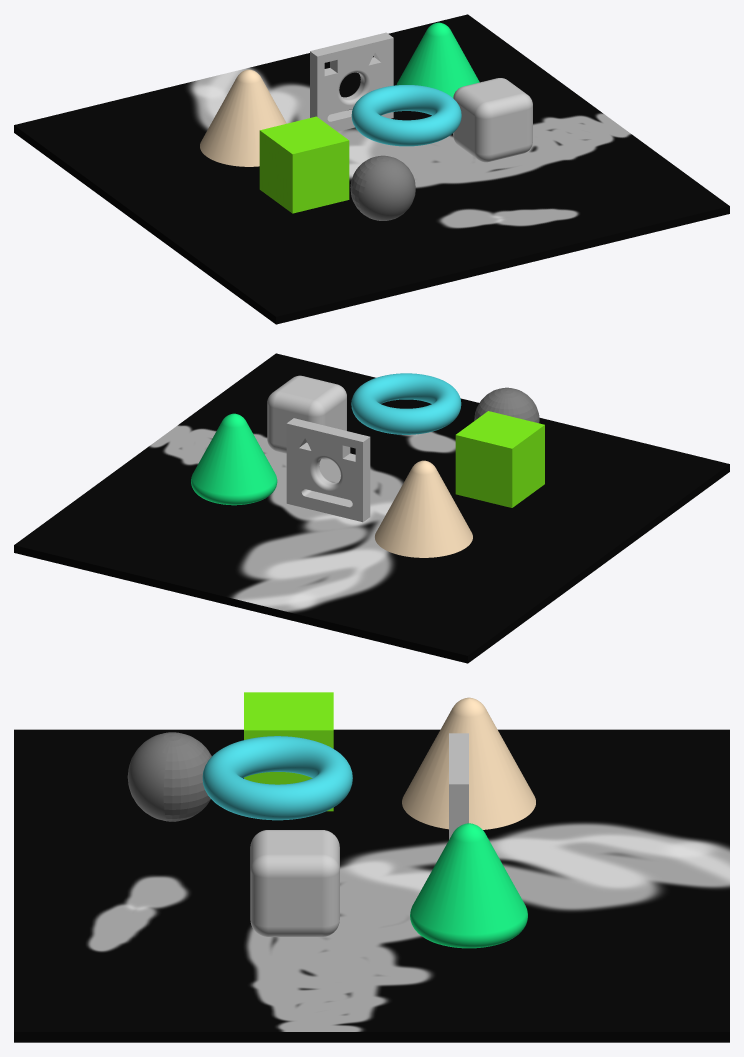
Rendered from testparts_mc.gltf.
The picture shows the model from 3 angles, top to bottom: view 1: azimuth 30°, elevation 25°; view 2: azimuth 150°, elevation 25°; view 3: azimuth 270°, elevation 25°; orthographic projection. The views are drawn at different scales.
Visible parts, largest first — view 1: Ground, Solid1.003, Solid1.004, Solid1, Solid1.005, Solid1.001, Plane, Solid1.002; view 2: Ground, Solid1.003, Solid1, Solid1.001, Solid1.002, Solid1.005, Solid1.004, Plane; view 3: Ground, Solid1.002, Solid1.005, Solid1.001, Solid1.004, Plane, Solid1.003, Solid1.
Boxes of the visible parts, left/top/right/bottom form: Ground: left=14, top=14, right=729, bottom=324; Solid1.003: left=259, top=116, right=349, bottom=213; Solid1.004: left=453, top=78, right=532, bottom=162; Solid1: left=310, top=32, right=393, bottom=131; Solid1.005: left=351, top=85, right=461, bottom=146; Solid1.001: left=200, top=69, right=286, bottom=166; Plane: left=350, top=155, right=415, bottom=220; Solid1.002: left=396, top=22, right=479, bottom=97; Ground: left=14, top=353, right=729, bottom=663; Solid1.003: left=455, top=411, right=544, bottom=507; Solid1: left=286, top=418, right=370, bottom=522; Solid1.001: left=375, top=460, right=472, bottom=557; Solid1.002: left=191, top=413, right=277, bottom=505; Solid1.005: left=351, top=373, right=461, bottom=434; Solid1.004: left=267, top=375, right=346, bottom=453; Plane: left=474, top=387, right=539, bottom=423; Ground: left=14, top=729, right=729, bottom=1042; Solid1.002: left=410, top=823, right=527, bottom=948; Solid1.005: left=202, top=736, right=352, bottom=820; Solid1.001: left=402, top=697, right=535, bottom=829; Solid1.004: left=250, top=830, right=339, bottom=936; Plane: left=127, top=732, right=211, bottom=821; Solid1.003: left=244, top=692, right=333, bottom=811; Solid1: left=449, top=733, right=468, bottom=839.
Bounding box in the file's own units: 16 × 5.46 × 16.
